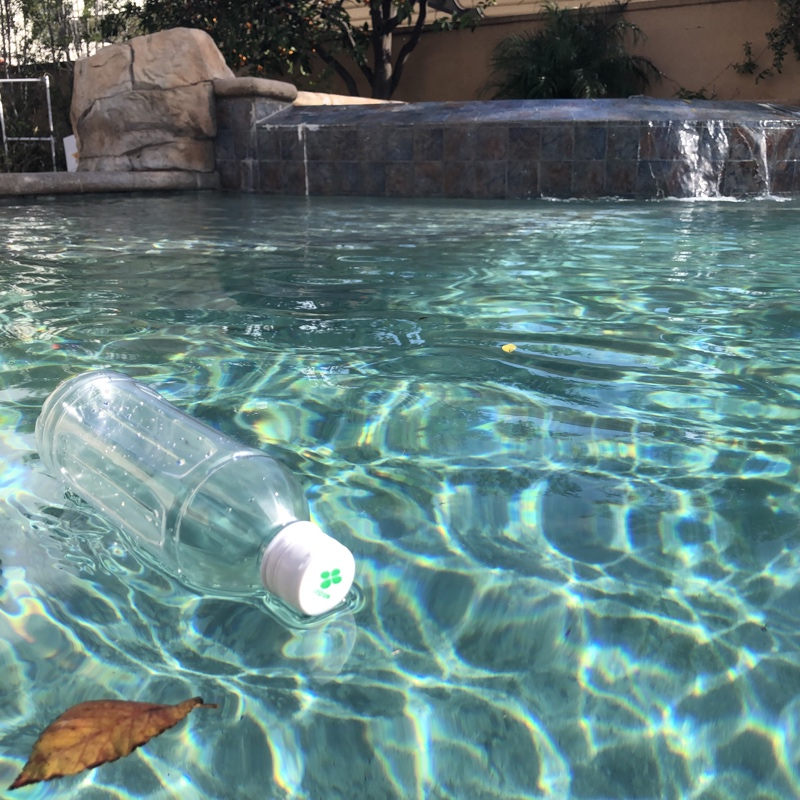Plastic Bottle: (26, 362, 359, 624)
